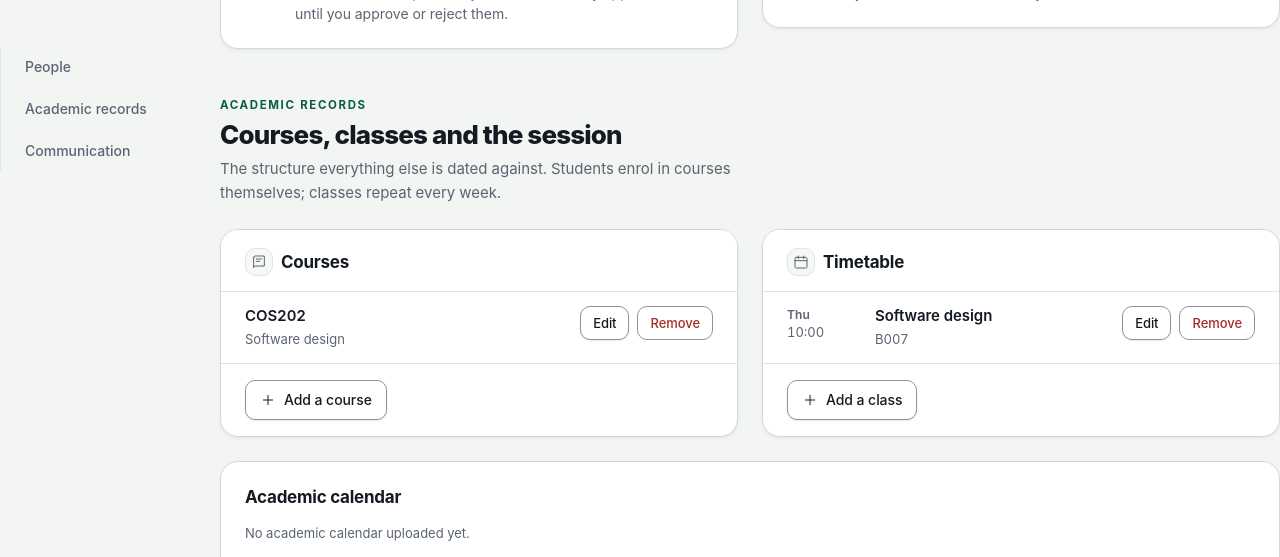
Test case: timetable editing › opens the entry prefilled with its current values
(page scrolled)
Click the button with test id "edit-timetable-21": click(1147, 323) 1122,306 -> 1172,340
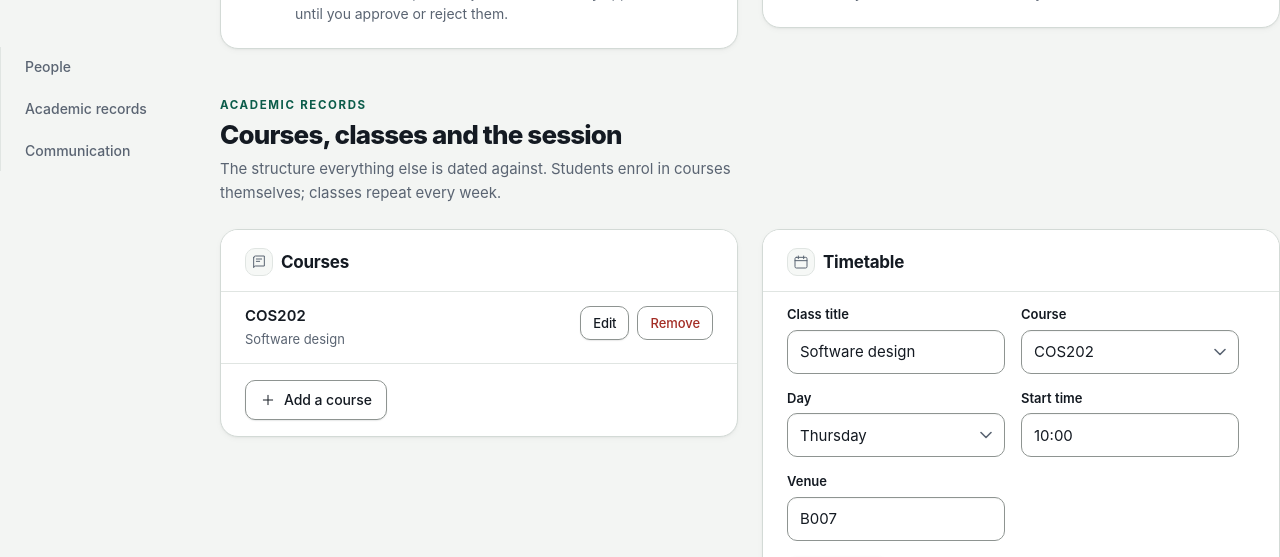
Result: the field with id "tt-e-title-21" holds "Software design" at 787,330 -> 1005,374
Result: the dropdown with id "tt-e-day-21" shows "Thursday" at 787,413 -> 1005,457
Result: the field with id "tt-e-time-21" holds "10:00" at 1021,413 -> 1239,457
